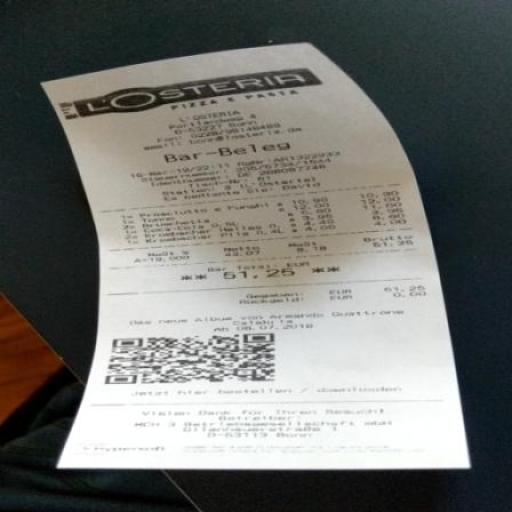paper: (26, 22, 512, 511)
